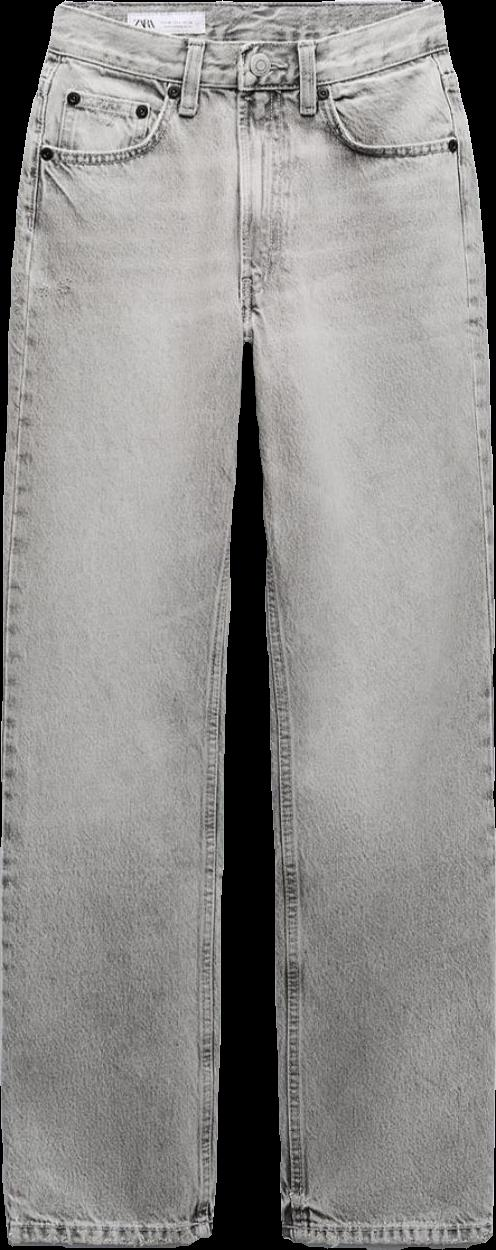Hemline: (276, 1228, 495, 1249), (7, 1231, 219, 1249)
Pantleg: (237, 0, 495, 1249), (0, 2, 256, 1247)
Waistline: (42, 44, 454, 97), (55, 0, 444, 56)
